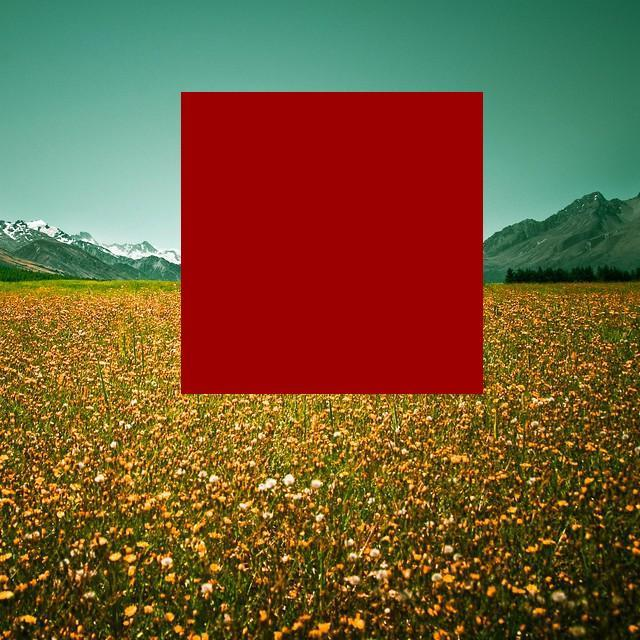RedSquare: (166, 77, 497, 401)
